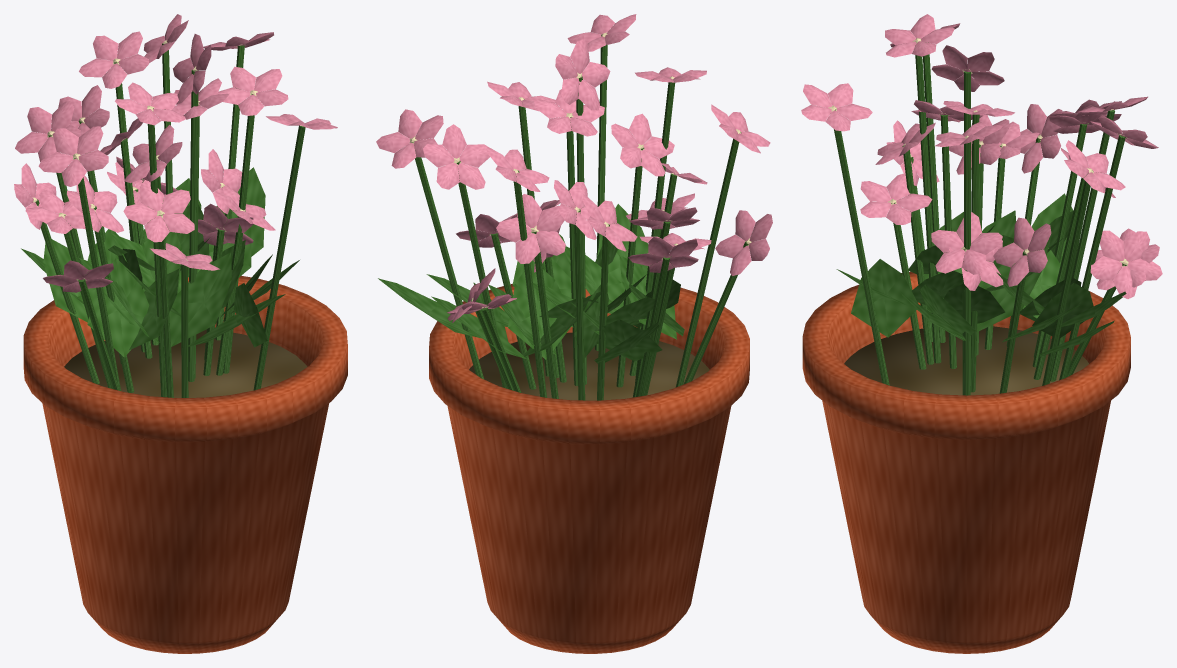
File: flower_planter.glb
3 views of the same model, side by side, from view 1: azimuth 30°, elevation 25°; view 2: azimuth 150°, elevation 25°; view 3: azimuth 270°, elevation 25° (orthographic). The views are drawn at different scales.
Parts seen in each view (by area): view 1: flower_planter_Structure, flower_planter_Foliage; view 2: flower_planter_Structure, flower_planter_Foliage; view 3: flower_planter_Structure, flower_planter_Foliage.
Part boxes in pixels (bbox=[...]): flower_planter_Structure: bbox=[23, 276, 347, 653]; flower_planter_Foliage: bbox=[14, 14, 337, 397]; flower_planter_Structure: bbox=[429, 284, 749, 653]; flower_planter_Foliage: bbox=[376, 14, 772, 400]; flower_planter_Structure: bbox=[802, 271, 1130, 653]; flower_planter_Foliage: bbox=[801, 14, 1162, 395].
Size of the model in its own units: 0.7282 by 1.28 by 0.727.
Materials: 2 (2 with a texture image).
